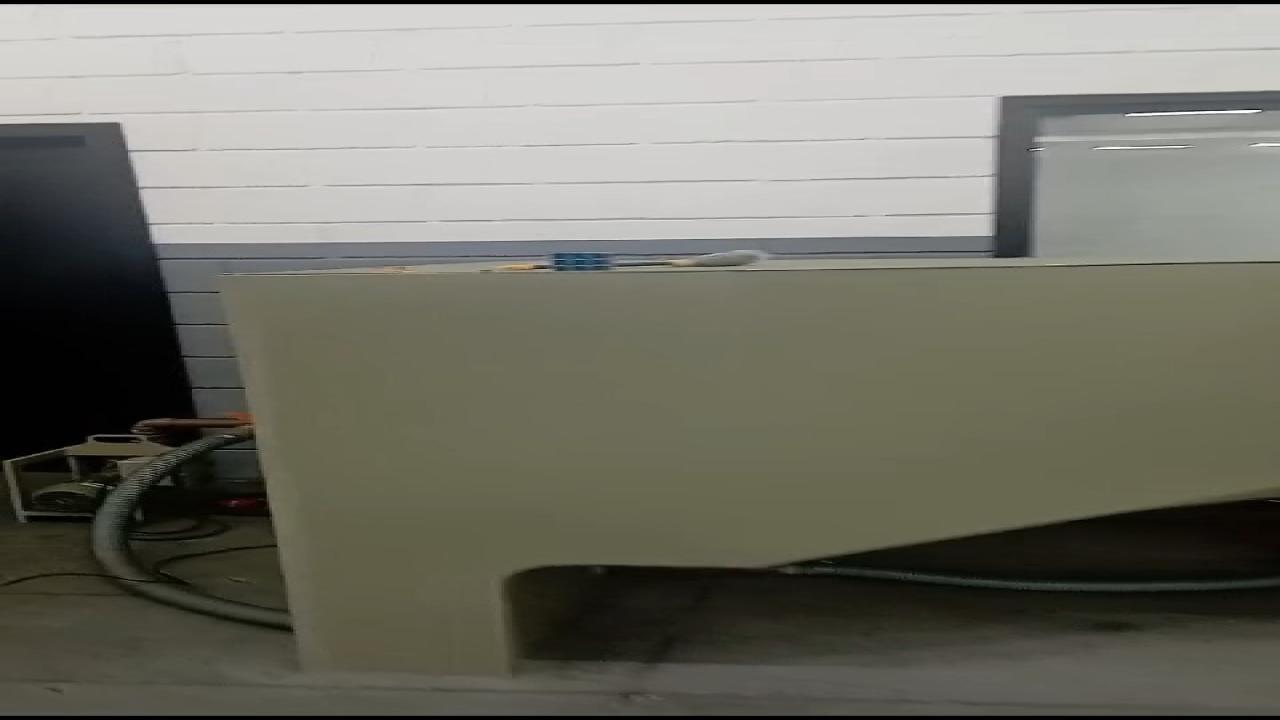Cube: (547, 250, 623, 274)
